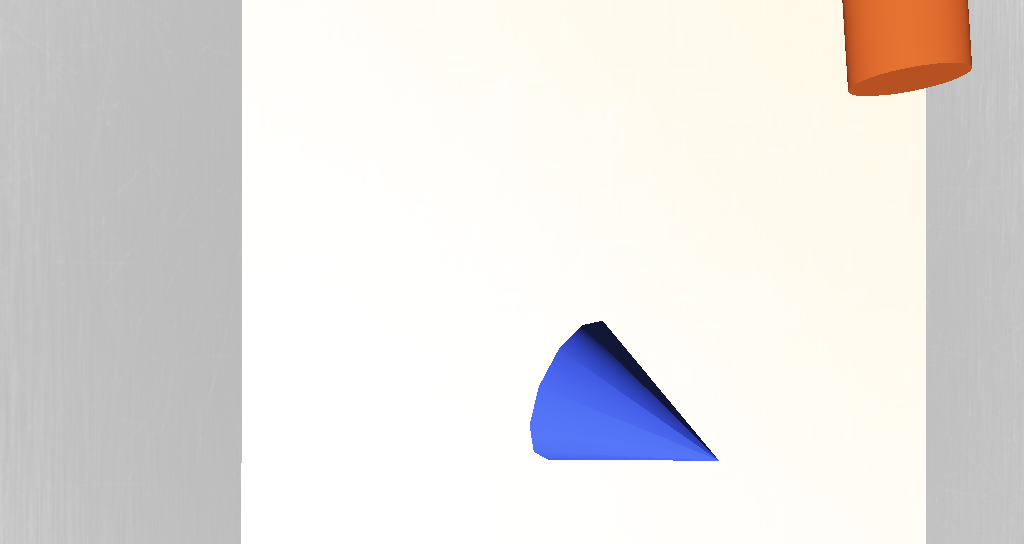cone: (610, 165, 670, 217)
cylinder: (472, 282, 579, 348)
sphere: (721, 305, 788, 353)
